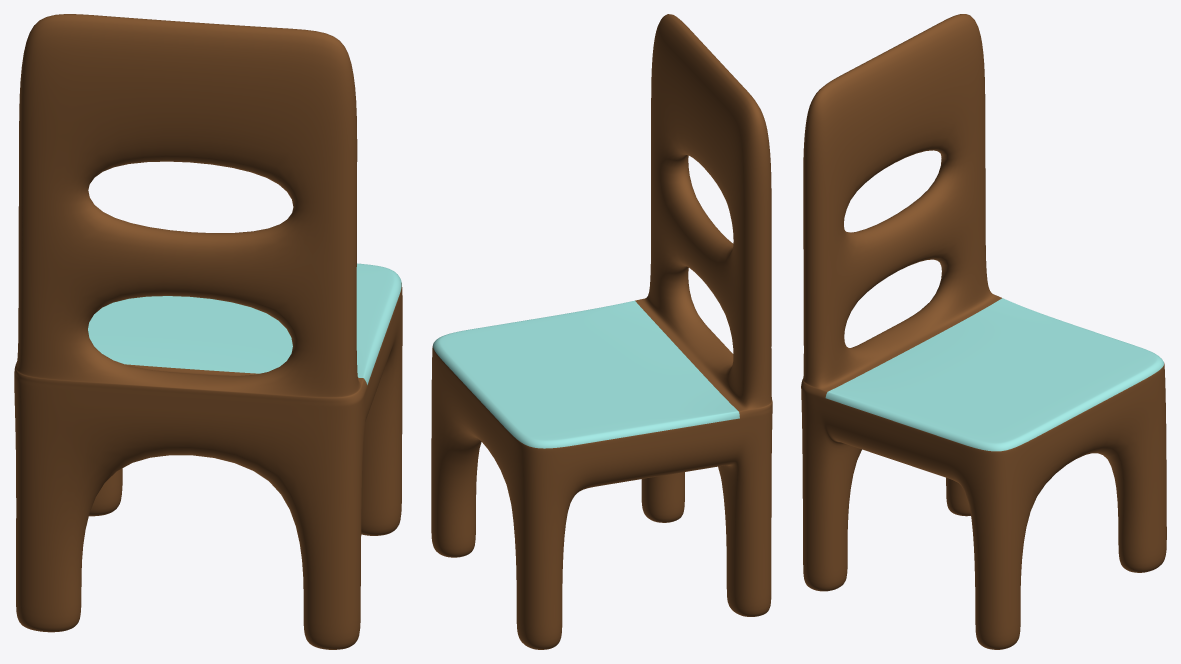
File: silla.fbx
The picture shows the model from 3 angles, left to right: view 1: azimuth 30°, elevation 25°; view 2: azimuth 150°, elevation 25°; view 3: azimuth 270°, elevation 25°; orthographic projection. The views are drawn at different scales.
Parts seen in each view (by area): view 1: Cube; view 2: Cube; view 3: Cube.
Part boxes in pixels (<box>): Cube: <box>14,14,402,649</box>; Cube: <box>431,14,772,649</box>; Cube: <box>801,14,1166,649</box>.
Size of the model in its own units: 3.44 by 5.13 by 3.41.
